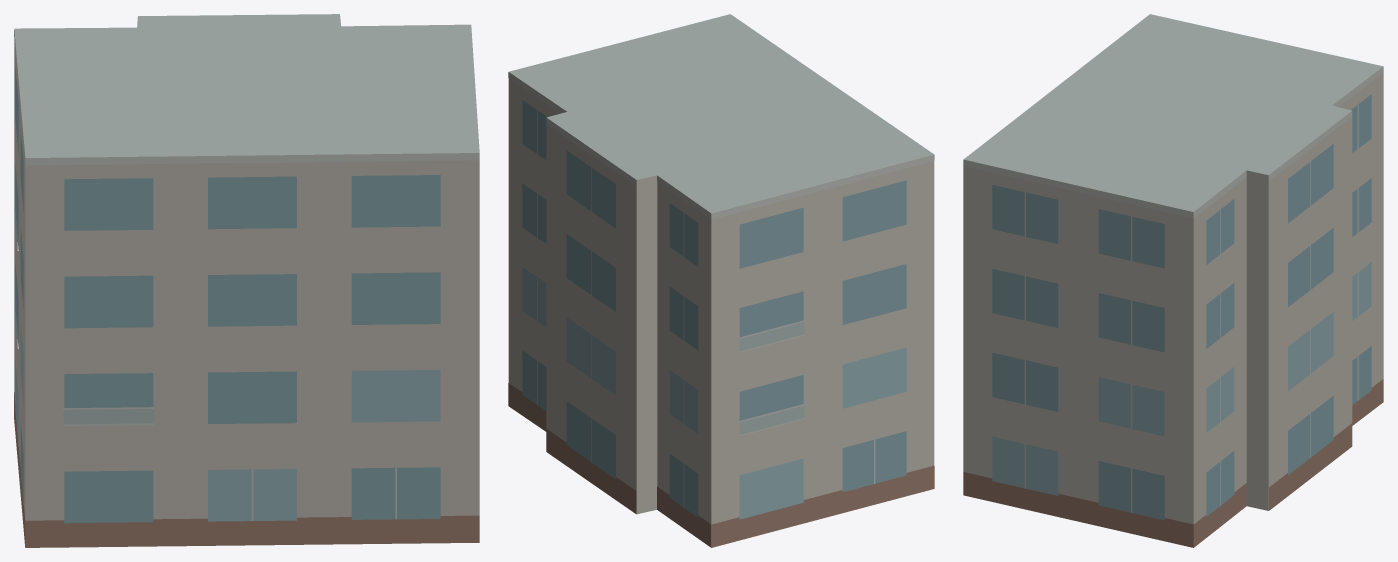
File: survey-upis-32888355.glb
3 views of the same model, side by side, from view 1: azimuth 30°, elevation 25°; view 2: azimuth 150°, elevation 25°; view 3: azimuth 270°, elevation 25° (orthographic). The views are drawn at different scales.
Visible parts, largest first — view 1: survey-upis-32888355.tmp; view 2: survey-upis-32888355.tmp; view 3: survey-upis-32888355.tmp.
Boxes of the visible parts, x1,y1,x2,y2 form: survey-upis-32888355.tmp: [14, 14, 479, 547]; survey-upis-32888355.tmp: [508, 14, 934, 547]; survey-upis-32888355.tmp: [963, 14, 1383, 547].
Size of the model in its own units: 16.33 by 12.9 by 14.64.
